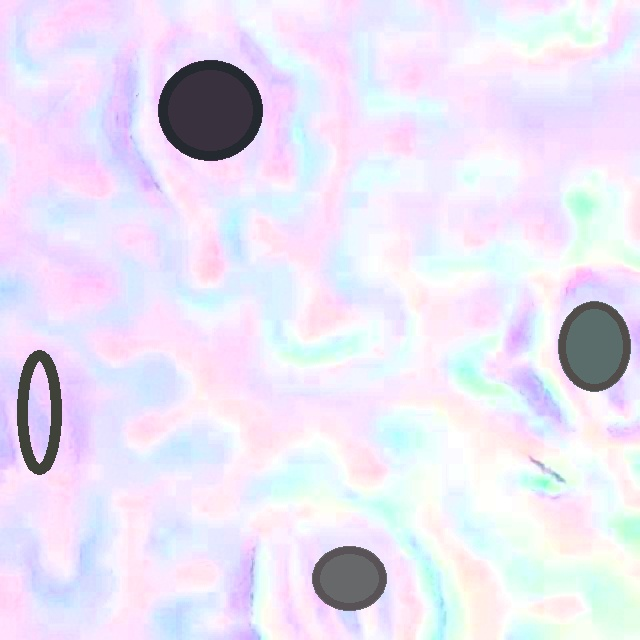open: (159, 60, 261, 161), (559, 302, 630, 391), (17, 350, 61, 475), (312, 546, 386, 611)
